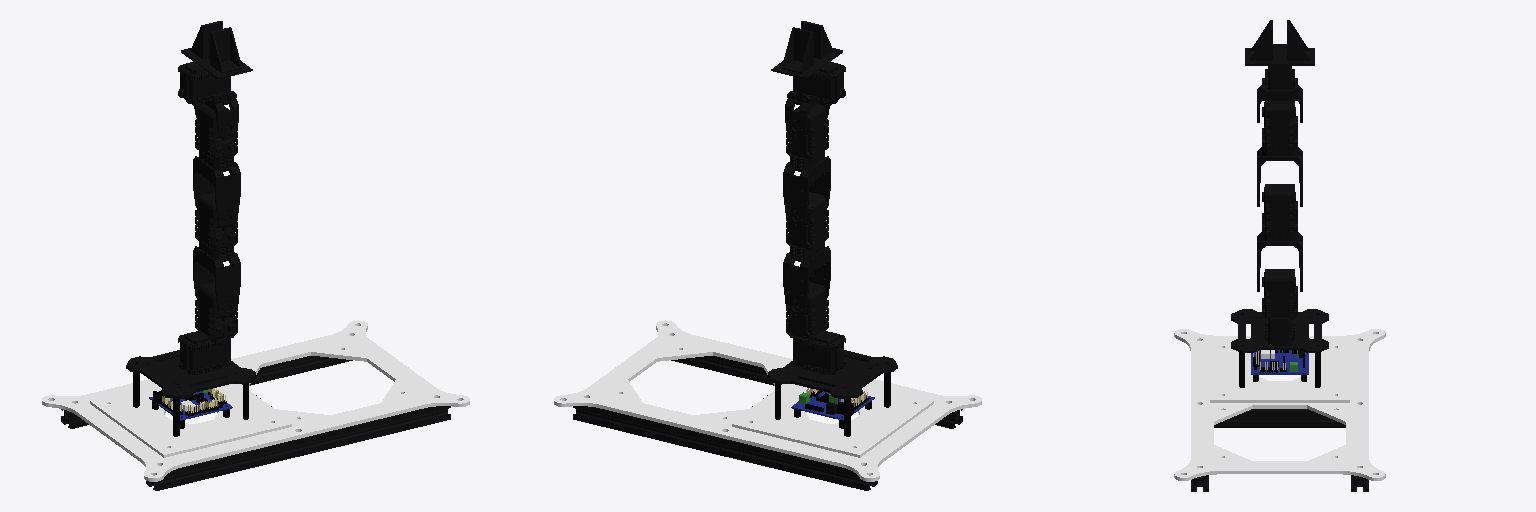
--- Render facts (derived) ---
The picture shows the robot from 3 angles, left to right: view 1: azimuth 30°, elevation 25°; view 2: azimuth 150°, elevation 25°; view 3: azimuth 270°, elevation 25°; orthographic projection.
Model phantomx_pincher with 28 links and 27 joints (4 revolute, 2 prismatic, 21 fixed), rooted at phantomx_pincher_base_link, posed all joints at 0 but 2 set to mid-range because 0 is outside their limits (phantomx_pincher_gripper_finger1_joint = 0.0084, phantomx_pincher_gripper_finger2_joint = 0.0084).
Visible links, largest first — view 1: phantomx_pincher_task_board_link, phantomx_pincher_task_board_mount_link, phantomx_pincher_base_mount_link, phantomx_pincher_arm_elbow_flex_link, phantomx_pincher_arm_shoulder_lift_link, phantomx_pincher_arm_shoulder_pan_servo_link, phantomx_pincher_gripper_servo_link, phantomx_pincher_arm_shoulder_lift_servo_link, phantomx_pincher_arm_elbow_flex_servo_link, phantomx_pincher_arm_wrist_flex_servo_link, phantomx_pincher_gripper_finger2_link, phantomx_pincher_arm_wrist_flex_link (+2 smaller); view 2: phantomx_pincher_task_board_link, phantomx_pincher_task_board_mount_link, phantomx_pincher_base_mount_link, phantomx_pincher_arm_elbow_flex_link, phantomx_pincher_arm_shoulder_lift_link, phantomx_pincher_arm_shoulder_pan_servo_link, phantomx_pincher_gripper_servo_link, phantomx_pincher_arm_shoulder_lift_servo_link, phantomx_pincher_arm_elbow_flex_servo_link, phantomx_pincher_arm_wrist_flex_servo_link, phantomx_pincher_gripper_finger1_link, phantomx_pincher_arm_wrist_flex_link (+2 smaller); view 3: phantomx_pincher_task_board_link, phantomx_pincher_task_board_mount_link, phantomx_pincher_base_mount_link, phantomx_pincher_arm_shoulder_lift_servo_link, phantomx_pincher_arm_elbow_flex_servo_link, phantomx_pincher_arm_wrist_flex_servo_link, phantomx_pincher_arm_shoulder_pan_servo_link, phantomx_pincher_gripper_servo_link, phantomx_pincher_gripper_finger_base_link, phantomx_pincher_arm_elbow_flex_link, phantomx_pincher_arm_shoulder_lift_link, phantomx_pincher_gripper_finger1_link (+1 smaller).
Boxes of the visible links, box(x1,y1,x2,y2) form: phantomx_pincher_task_board_link: box(42, 320, 469, 490); phantomx_pincher_task_board_mount_link: box(90, 384, 291, 457); phantomx_pincher_base_mount_link: box(126, 350, 255, 436); phantomx_pincher_arm_elbow_flex_link: box(193, 156, 240, 227); phantomx_pincher_arm_shoulder_lift_link: box(193, 246, 240, 317); phantomx_pincher_arm_shoulder_pan_servo_link: box(178, 330, 230, 374); phantomx_pincher_gripper_servo_link: box(178, 62, 230, 105); phantomx_pincher_arm_shoulder_lift_servo_link: box(195, 282, 237, 341); phantomx_pincher_arm_elbow_flex_servo_link: box(195, 192, 237, 250); phantomx_pincher_arm_wrist_flex_servo_link: box(195, 104, 237, 160); phantomx_pincher_gripper_finger2_link: box(210, 27, 241, 73); phantomx_pincher_arm_wrist_flex_link: box(194, 99, 238, 137); phantomx_pincher_task_board_link: box(554, 320, 981, 490); phantomx_pincher_task_board_mount_link: box(732, 384, 933, 457); phantomx_pincher_base_mount_link: box(768, 350, 897, 436); phantomx_pincher_arm_elbow_flex_link: box(783, 156, 830, 227); phantomx_pincher_arm_shoulder_lift_link: box(783, 246, 830, 317); phantomx_pincher_arm_shoulder_pan_servo_link: box(793, 330, 845, 374); phantomx_pincher_gripper_servo_link: box(793, 62, 845, 105); phantomx_pincher_arm_shoulder_lift_servo_link: box(786, 282, 828, 341); phantomx_pincher_arm_elbow_flex_servo_link: box(786, 192, 828, 250); phantomx_pincher_arm_wrist_flex_servo_link: box(786, 104, 828, 160); phantomx_pincher_gripper_finger1_link: box(782, 27, 813, 73); phantomx_pincher_arm_wrist_flex_link: box(785, 99, 829, 137); phantomx_pincher_task_board_link: box(1174, 329, 1385, 491); phantomx_pincher_task_board_mount_link: box(1210, 342, 1349, 402); phantomx_pincher_base_mount_link: box(1231, 309, 1328, 387); phantomx_pincher_arm_shoulder_lift_servo_link: box(1262, 269, 1297, 318); phantomx_pincher_arm_elbow_flex_servo_link: box(1262, 184, 1297, 233); phantomx_pincher_arm_wrist_flex_servo_link: box(1262, 101, 1297, 148); phantomx_pincher_arm_shoulder_pan_servo_link: box(1265, 317, 1294, 345); phantomx_pincher_gripper_servo_link: box(1265, 44, 1294, 89); phantomx_pincher_gripper_finger_base_link: box(1245, 48, 1314, 65); phantomx_pincher_arm_elbow_flex_link: box(1257, 147, 1302, 206); phantomx_pincher_arm_shoulder_lift_link: box(1257, 232, 1302, 291); phantomx_pincher_gripper_finger1_link: box(1287, 20, 1309, 60).
Size in the robot's own frame: 0.3741 by 0.2241 by 0.4461 metres.
24 mesh visuals loaded from 10 distinct referenced files (10 Collada DAE).

robot.urdf — phantomx_pincher:
<?xml version="1.0" ?>
<!-- =================================================================================== -->
<!-- |    This document was autogenerated by xacro from /root/ws/src/phantomx_pincher/phantomx_pincher_description/urdf/phantomx_pincher.urdf.xacro | -->
<!-- |    EDITING THIS FILE BY HAND IS NOT RECOMMENDED                                 | -->
<!-- =================================================================================== -->
<!-- URDF for PhantomX Pincher Robot Arm -->
<robot name="phantomx_pincher">
  <link name="phantomx_pincher_base_link">
  </link>
  <joint name="phantomx_pincher_base_link_joint" type="fixed">
    <parent link="phantomx_pincher_base_link"/>
    <child link="phantomx_pincher_task_board_link"/>
  </joint>
  <joint name="phantomx_pincher_task_board_fixed_joint" type="fixed">
    <parent link="phantomx_pincher_task_board_link"/>
    <child link="phantomx_pincher_task_board_mount_link"/>
    <origin rpy="0.0 0.0 1.5707963267948966" xyz="-0.075 0.0 0.024"/>
  </joint>
  <link name="phantomx_pincher_task_board_link">
    <visual>
      <origin rpy="0.0 0.0 0.0" xyz="0.0 0.0 0.0"/>
      <geometry>
        <mesh filename="package://phantomx_pincher_description/meshes/visual/task_board.dae"/>
      </geometry>
    </visual>
    <collision>
      <origin rpy="0.0 0.0 0.0" xyz="0.0 0.0 0.0"/>
      <geometry>
        <mesh filename="package://phantomx_pincher_description/meshes/collision/task_board.stl"/>
      </geometry>
    </collision>
    <inertial>
      <origin rpy="0.0 0.0 0.0" xyz="7.59924e-07 2.79305e-08 0.0164041"/>
      <mass value="0.6"/>
      <inertia ixx="0.0065283400178141335" ixy="-1.7343908287424124e-12" ixz="2.8936318115622572e-09" iyy="0.003398671922618594" iyz="-8.805547978958671e-11" izz="0.009860990026576852"/>
    </inertial>
  </link>
  <gazebo reference="phantomx_pincher_task_board_link">
    <mu1 value="1.0"/>
    <mu2 value="1.0"/>
  </gazebo>
  <link name="phantomx_pincher_task_board_module_link">
  </link>
  <joint name="phantomx_pincher_task_board_module_link_virtual_joint" type="fixed">
    <parent link="phantomx_pincher_task_board_link"/>
    <child link="phantomx_pincher_task_board_module_link"/>
    <origin rpy="0.0 0.0 0.0" xyz="0.075 0.0 0.024"/>
  </joint>
  <joint name="phantomx_pincher_task_board_mount_fixed_joint" type="fixed">
    <parent link="phantomx_pincher_task_board_mount_link"/>
    <child link="phantomx_pincher_base_mount_link"/>
    <origin rpy="0.0 0.0 0.0" xyz="0.0 0.0 0.003"/>
  </joint>
  <link name="phantomx_pincher_task_board_mount_link">
    <visual>
      <origin rpy="0.0 0.0 0.0" xyz="0.0 0.0 0.0"/>
      <geometry>
        <mesh filename="package://phantomx_pincher_description/meshes/visual/task_board_module_phantomx_pincher_mount.dae"/>
      </geometry>
    </visual>
    <collision>
      <origin rpy="0.0 0.0 0.0" xyz="0.0 0.0 0.0015"/>
      <geometry>
        <box size="0.148 0.148 0.003"/>
      </geometry>
    </collision>
    <inertial>
      <origin rpy="0.0 0.0 0.0" xyz="-4.50216e-09 -4.41466e-09 0.00149998"/>
      <mass value="0.05832672118651948"/>
      <inertia ixx="0.0001172231384236186" ixy="5.27948376375961e-14" ixz="3.9903733813665316e-22" iyy="0.00011722313733495664" iyz="2.1401492655855885e-23" izz="0.00023435878795674127"/>
    </inertial>
  </link>
  <gazebo reference="phantomx_pincher_task_board_mount_link">
    <mu1 value="1.0"/>
    <mu2 value="1.0"/>
  </gazebo>
  <joint name="phantomx_pincher_base_mount_fixed_joint" type="fixed">
    <parent link="phantomx_pincher_base_mount_link"/>
    <child link="phantomx_pincher_arm_base_link"/>
    <origin rpy="0.0 0.0 -1.5707963267948966" xyz="0.0 -0.0295 0.064"/>
  </joint>
  <link name="phantomx_pincher_base_mount_link">
    <visual>
      <origin rpy="0.0 0.0 0.0" xyz="0.0 0.0 0.0"/>
      <geometry>
        <mesh filename="package://phantomx_pincher_description/meshes/visual/phantomx_pincher_mount.dae"/>
      </geometry>
    </visual>
    <collision>
      <origin rpy="0.0 0.0 0.0" xyz="0.0 0.0 0.024"/>
      <geometry>
        <box size="0.104 0.104 0.048"/>
      </geometry>
    </collision>
    <inertial>
      <origin rpy="0.0 0.0 0.0" xyz="0.00037683 0.000627242 0.034281"/>
      <mass value="0.04167327881348052"/>
      <inertia ixx="4.209466937688695e-05" ixy="-3.983275834765508e-07" ixz="1.3653283599512486e-07" iyy="4.06306356962411e-05" iyz="5.014723052473674e-07" izz="6.067656565666726e-05"/>
    </inertial>
  </link>
  <gazebo reference="phantomx_pincher_base_mount_link">
    <mu1 value="1.0"/>
    <mu2 value="1.0"/>
  </gazebo>
  <!-- Base link of the arm, which can be used to attach it to the rest of the world -->
  <link name="phantomx_pincher_arm_base_link"/>
  <joint name="phantomx_pincher_arm_shoulder_pan_servo_joint" type="fixed">
    <parent link="phantomx_pincher_arm_base_link"/>
    <child link="phantomx_pincher_arm_shoulder_pan_servo_link"/>
    <origin rpy="1.5707963267948966 0.0 1.5707963267948966" xyz="0.0 0.0 0.0"/>
  </joint>
  <link name="phantomx_pincher_arm_shoulder_pan_servo_link">
    <visual>
      <origin rpy="0.0 0.0 0.0" xyz="0.0 0.0 0.0"/>
      <geometry>
        <mesh filename="package://phantomx_pincher_description/meshes/visual/ax12.dae"/>
      </geometry>
    </visual>
    <collision>
      <origin rpy="0.0 0.0 0.0" xyz="0.0 0.0 -0.0135"/>
      <geometry>
        <box size="0.032 0.038 0.05"/>
      </geometry>
    </collision>
    <inertial>
      <origin rpy="0.0 0.0 0.0" xyz="-7.38454e-07 0.000422614 -0.0130296"/>
      <mass value="0.08139802400654242"/>
      <inertia ixx="2.3143627968295997e-05" ixy="-6.904875516785507e-10" ixz="-2.4208698077741694e-10" iyy="1.9936031209683584e-05" iyz="3.504110421945422e-07" izz="1.2576986445925398e-05"/>
    </inertial>
  </link>
  <gazebo reference="phantomx_pincher_arm_shoulder_pan_servo_link">
    <mu1 value="1.0"/>
    <mu2 value="1.0"/>
  </gazebo>
  <joint name="phantomx_pincher_arm_shoulder_pan_joint" type="revolute">
    <parent link="phantomx_pincher_arm_shoulder_pan_servo_link"/>
    <child link="phantomx_pincher_arm_shoulder_pan_link"/>
    <origin rpy="-1.5707963267948966 1.5707963267948966 3.141592653589793" xyz="0 0.019 0.0"/>
    <axis xyz="0.0 0.0 -1.0"/>
    <limit effort="30" lower="-2.6179938779914944" upper="2.6179938779914944" velocity="1.5707963267948966"/>
    <dynamics damping="1.4" friction="0.02"/>
  </joint>
  <gazebo reference="phantomx_pincher_arm_shoulder_pan_joint">
    <springStiffness value="0.0"/>
    <springReference value="0.0"/>
  </gazebo>
  <link name="phantomx_pincher_arm_shoulder_pan_link">
    <visual>
      <origin rpy="0.0 0.0 0.0" xyz="0.0 0.0 0.0"/>
      <geometry>
        <mesh filename="package://phantomx_pincher_description/meshes/visual/f3.dae"/>
      </geometry>
    </visual>
    <collision>
      <origin rpy="0.0 0.0 0.0" xyz="0.0 0.0 -0.0045"/>
      <geometry>
        <box size="0.025 0.038 0.009"/>
      </geometry>
    </collision>
    <inertial>
      <origin rpy="0.0 0.0 0.0" xyz="-1.72524e-06 4.83783e-07 -0.00240396"/>
      <mass value="0.006374458272892439"/>
      <inertia ixx="9.270000220058128e-07" ixy="-2.5814168895313843e-12" ixz="-2.4985237649917935e-10" iyy="4.018633414376187e-07" iyz="9.813034257837808e-12" izz="1.2864371800536346e-06"/>
    </inertial>
  </link>
  <gazebo reference="phantomx_pincher_arm_shoulder_pan_link">
    <mu1 value="1.0"/>
    <mu2 value="1.0"/>
  </gazebo>
  <joint name="phantomx_pincher_arm_shoulder_lift_servo_joint" type="fixed">
    <parent link="phantomx_pincher_arm_shoulder_pan_link"/>
    <child link="phantomx_pincher_arm_shoulder_lift_servo_link"/>
    <origin rpy="0.0 3.141592653589793 0.0" xyz="0.0 0.0 -0.035"/>
  </joint>
  <link name="phantomx_pincher_arm_shoulder_lift_servo_link">
    <visual>
      <origin rpy="0.0 0.0 0.0" xyz="0.0 0.0 0.0"/>
      <geometry>
        <mesh filename="package://phantomx_pincher_description/meshes/visual/ax12.dae"/>
      </geometry>
    </visual>
    <collision>
      <origin rpy="0.0 0.0 0.0" xyz="0.0 0.0 -0.0135"/>
      <geometry>
        <box size="0.032 0.038 0.05"/>
      </geometry>
    </collision>
    <inertial>
      <origin rpy="0.0 0.0 0.0" xyz="-7.38454e-07 0.000422614 -0.0130296"/>
      <mass value="0.08139802400654242"/>
      <inertia ixx="2.3143627968295997e-05" ixy="-6.904875516785507e-10" ixz="-2.4208698077741694e-10" iyy="1.9936031209683584e-05" iyz="3.504110421945422e-07" izz="1.2576986445925398e-05"/>
    </inertial>
  </link>
  <gazebo reference="phantomx_pincher_arm_shoulder_lift_servo_link">
    <mu1 value="1.0"/>
    <mu2 value="1.0"/>
  </gazebo>
  <joint name="phantomx_pincher_arm_shoulder_lift_joint" type="revolute">
    <parent link="phantomx_pincher_arm_shoulder_lift_servo_link"/>
    <child link="phantomx_pincher_arm_shoulder_lift_link"/>
    <origin rpy="0.0 0.0 0.0" xyz="0.0 0.0 0.0"/>
    <axis xyz="0.0 1.0 0.0"/>
    <limit effort="30" lower="-2.0943951023931953" upper="2.0943951023931953" velocity="1.5707963267948966"/>
    <dynamics damping="1.4" friction="0.02"/>
  </joint>
  <gazebo reference="phantomx_pincher_arm_shoulder_lift_joint">
    <springStiffness value="0.0"/>
    <springReference value="0.0"/>
  </gazebo>
  <link name="phantomx_pincher_arm_shoulder_lift_link">
    <visual>
      <origin rpy="0.0 0.0 0.0" xyz="0.0 0.0 0.0"/>
      <geometry>
        <mesh filename="package://phantomx_pincher_description/meshes/visual/f4.dae"/>
      </geometry>
    </visual>
    <collision>
      <origin rpy="0.0 0.0 0.0" xyz="0.0 0.0 0.0215"/>
      <geometry>
        <box size="0.028 0.0485 0.065"/>
      </geometry>
    </collision>
    <inertial>
      <origin rpy="0.0 0.0 0.0" xyz="-0.000589318 3.65417e-05 0.0288737"/>
      <mass value="0.025203193826508614"/>
      <inertia ixx="1.997638801949545e-05" ixy="9.66261623973993e-10" ixz="1.0343105915459652e-06" iyy="1.214970461462084e-05" iyz="-1.7113644679963033e-08" izz="1.1427207264696245e-05"/>
    </inertial>
  </link>
  <gazebo reference="phantomx_pincher_arm_shoulder_lift_link">
    <mu1 value="1.0"/>
    <mu2 value="1.0"/>
  </gazebo>
  <joint name="phantomx_pincher_arm_shoulder_F10_0_joint" type="fixed">
    <parent link="phantomx_pincher_arm_shoulder_lift_link"/>
    <child link="phantomx_pincher_arm_shoulder_F10_0_link"/>
    <origin rpy="0.0 0.0 0.0" xyz="0.0 0.0 0.0545"/>
  </joint>
  <link name="phantomx_pincher_arm_shoulder_F10_0_link">
    <visual>
      <origin rpy="0.0 0.0 0.0" xyz="0.0 0.0 0.0"/>
      <geometry>
        <mesh filename="package://phantomx_pincher_description/meshes/visual/f10.dae"/>
      </geometry>
    </visual>
    <collision>
      <origin rpy="0.0 0.0 0.0" xyz="0.0 0.0 0.0"/>
      <geometry>
        <box size="0.025 0.038 0.004"/>
      </geometry>
    </collision>
    <inertial>
      <origin rpy="0.0 0.0 0.0" xyz="-8.67784e-06 -8.79317e-07 0.000171599"/>
      <mass value="0.0035170756160130324"/>
      <inertia ixx="3.992017647723594e-07" ixy="-3.5246444817584626e-12" ixz="-9.729500575523489e-13" iyy="2.2036114209006905e-07" iyz="2.2872438374335695e-12" izz="6.123206341186544e-07"/>
    </inertial>
  </link>
  <gazebo reference="phantomx_pincher_arm_shoulder_F10_0_link">
    <mu1 value="1.0"/>
    <mu2 value="1.0"/>
  </gazebo>
  <joint name="phantomx_pincher_arm_shoulder_F10_1_joint" type="fixed">
    <parent link="phantomx_pincher_arm_shoulder_F10_0_link"/>
    <child link="phantomx_pincher_arm_shoulder_F10_1_link"/>
    <origin rpy="0.0 0.0 0.0" xyz="0.0 0.0 0.004"/>
  </joint>
  <link name="phantomx_pincher_arm_shoulder_F10_1_link">
    <visual>
      <origin rpy="0.0 0.0 0.0" xyz="0.0 0.0 0.0"/>
      <geometry>
        <mesh filename="package://phantomx_pincher_description/meshes/visual/f10.dae"/>
      </geometry>
    </visual>
    <collision>
      <origin rpy="0.0 0.0 0.0" xyz="0.0 0.0 0.0"/>
      <geometry>
        <box size="0.025 0.038 0.004"/>
      </geometry>
    </collision>
    <inertial>
      <origin rpy="0.0 0.0 0.0" xyz="-8.67784e-06 -8.79317e-07 0.000171599"/>
      <mass value="0.0035170756160130324"/>
      <inertia ixx="3.992017647723594e-07" ixy="-3.5246444817584626e-12" ixz="-9.729500575523489e-13" iyy="2.2036114209006905e-07" iyz="2.2872438374335695e-12" izz="6.123206341186544e-07"/>
    </inertial>
  </link>
  <gazebo reference="phantomx_pincher_arm_shoulder_F10_1_link">
    <mu1 value="1.0"/>
    <mu2 value="1.0"/>
  </gazebo>
  <joint name="phantomx_pincher_arm_shoulder_F10_2_joint" type="fixed">
    <parent link="phantomx_pincher_arm_shoulder_F10_1_link"/>
    <child link="phantomx_pincher_arm_shoulder_F10_2_link"/>
    <origin rpy="0.0 0.0 0.0" xyz="0.0 0.0 0.004"/>
  </joint>
  <link name="phantomx_pincher_arm_shoulder_F10_2_link">
    <visual>
      <origin rpy="0.0 0.0 0.0" xyz="0.0 0.0 0.0"/>
      <geometry>
        <mesh filename="package://phantomx_pincher_description/meshes/visual/f10.dae"/>
      </geometry>
    </visual>
    <collision>
      <origin rpy="0.0 0.0 0.0" xyz="0.0 0.0 0.0"/>
      <geometry>
        <box size="0.025 0.038 0.004"/>
      </geometry>
    </collision>
    <inertial>
      <origin rpy="0.0 0.0 0.0" xyz="-8.67784e-06 -8.79317e-07 0.000171599"/>
      <mass value="0.0035170756160130324"/>
      <inertia ixx="3.992017647723594e-07" ixy="-3.5246444817584626e-12" ixz="-9.729500575523489e-13" iyy="2.2036114209006905e-07" iyz="2.2872438374335695e-12" izz="6.123206341186544e-07"/>
    </inertial>
  </link>
  <gazebo reference="phantomx_pincher_arm_shoulder_F10_2_link">
    <mu1 value="1.0"/>
    <mu2 value="1.0"/>
  </gazebo>
  <joint name="phantomx_pincher_arm_shoulder_F3_0_joint" type="fixed">
    <parent link="phantomx_pincher_arm_shoulder_F10_2_link"/>
    <child link="phantomx_pincher_arm_shoulder_F3_0_link"/>
    <origin rpy="0.0 3.141592653589793 0.0" xyz="0.0 0.0 0.002"/>
  </joint>
  <link name="phantomx_pincher_arm_shoulder_F3_0_link">
    <visual>
      <origin rpy="0.0 0.0 0.0" xyz="0.0 0.0 0.0"/>
      <geometry>
        <mesh filename="package://phantomx_pincher_description/meshes/visual/f3.dae"/>
      </geometry>
    </visual>
    <collision>
      <origin rpy="0.0 0.0 0.0" xyz="0.0 0.0 -0.0045"/>
      <geometry>
        <box size="0.025 0.038 0.009"/>
      </geometry>
    </collision>
    <inertial>
      <origin rpy="0.0 0.0 0.0" xyz="-1.72524e-06 4.83783e-07 -0.00240396"/>
      <mass value="0.006374458272892439"/>
      <inertia ixx="9.270000220058128e-07" ixy="-2.5814168895313843e-12" ixz="-2.4985237649917935e-10" iyy="4.018633414376187e-07" iyz="9.813034257837808e-12" izz="1.2864371800536346e-06"/>
    </inertial>
  </link>
  <gazebo reference="phantomx_pincher_arm_shoulder_F3_0_link">
    <mu1 value="1.0"/>
    <mu2 value="1.0"/>
  </gazebo>
  <joint name="phantomx_pincher_arm_elbow_flex_servo_joint" type="fixed">
    <parent link="phantomx_pincher_arm_shoulder_F3_0_link"/>
    <child link="phantomx_pincher_arm_elbow_flex_servo_link"/>
    <origin rpy="0.0 3.141592653589793 0.0" xyz="0.0 0.0 -0.035"/>
  </joint>
  <link name="phantomx_pincher_arm_elbow_flex_servo_link">
    <visual>
      <origin rpy="0.0 0.0 0.0" xyz="0.0 0.0 0.0"/>
      <geometry>
        <mesh filename="package://phantomx_pincher_description/meshes/visual/ax12.dae"/>
      </geometry>
    </visual>
    <collision>
      <origin rpy="0.0 0.0 0.0" xyz="0.0 0.0 -0.0135"/>
      <geometry>
        <box size="0.032 0.038 0.05"/>
      </geometry>
    </collision>
    <inertial>
      <origin rpy="0.0 0.0 0.0" xyz="-7.38454e-07 0.000422614 -0.0130296"/>
      <mass value="0.08139802400654242"/>
      <inertia ixx="2.3143627968295997e-05" ixy="-6.904875516785507e-10" ixz="-2.4208698077741694e-10" iyy="1.9936031209683584e-05" iyz="3.504110421945422e-07" izz="1.2576986445925398e-05"/>
    </inertial>
  </link>
  <gazebo reference="phantomx_pincher_arm_elbow_flex_servo_link">
    <mu1 value="1.0"/>
    <mu2 value="1.0"/>
  </gazebo>
  <joint name="phantomx_pincher_arm_elbow_flex_joint" type="revolute">
    <parent link="phantomx_pincher_arm_elbow_flex_servo_link"/>
    <child link="phantomx_pincher_arm_elbow_flex_link"/>
    <origin rpy="0.0 0.0 0.0" xyz="0.0 0.0 0.0"/>
    <axis xyz="0.0 1.0 0.0"/>
    <limit effort="30" lower="-2.426007660272118" upper="2.426007660272118" velocity="1.5707963267948966"/>
    <dynamics damping="1.4" friction="0.02"/>
  </joint>
  <gazebo reference="phantomx_pincher_arm_elbow_flex_joint">
    <springStiffness value="0.0"/>
    <springReference value="0.0"/>
  </gazebo>
  <link name="phantomx_pincher_arm_elbow_flex_link">
    <visual>
      <origin rpy="0.0 0.0 0.0" xyz="0.0 0.0 0.0"/>
      <geometry>
        <mesh filename="package://phantomx_pincher_description/meshes/visual/f4.dae"/>
      </geometry>
    </visual>
    <collision>
      <origin rpy="0.0 0.0 0.0" xyz="0.0 0.0 0.0215"/>
      <geometry>
        <box size="0.028 0.0485 0.065"/>
      </geometry>
    </collision>
    <inertial>
      <origin rpy="0.0 0.0 0.0" xyz="-0.000589318 3.65417e-05 0.0288737"/>
      <mass value="0.025203193826508614"/>
      <inertia ixx="1.997638801949545e-05" ixy="9.66261623973993e-10" ixz="1.0343105915459652e-06" iyy="1.214970461462084e-05" iyz="-1.7113644679963033e-08" izz="1.1427207264696245e-05"/>
    </inertial>
  </link>
  <gazebo reference="phantomx_pincher_arm_elbow_flex_link">
    <mu1 value="1.0"/>
    <mu2 value="1.0"/>
  </gazebo>
  <joint name="phantomx_pincher_arm_elbow_F10_0_joint" type="fixed">
    <parent link="phantomx_pincher_arm_elbow_flex_link"/>
    <child link="phantomx_pincher_arm_elbow_F10_0_link"/>
    <origin rpy="0.0 0.0 0.0" xyz="0.0 0.0 0.0545"/>
  </joint>
  <link name="phantomx_pincher_arm_elbow_F10_0_link">
    <visual>
      <origin rpy="0.0 0.0 0.0" xyz="0.0 0.0 0.0"/>
      <geometry>
        <mesh filename="package://phantomx_pincher_description/meshes/visual/f10.dae"/>
      </geometry>
    </visual>
    <collision>
      <origin rpy="0.0 0.0 0.0" xyz="0.0 0.0 0.0"/>
      <geometry>
        <box size="0.025 0.038 0.004"/>
      </geometry>
    </collision>
    <inertial>
      <origin rpy="0.0 0.0 0.0" xyz="-8.67784e-06 -8.79317e-07 0.000171599"/>
      <mass value="0.0035170756160130324"/>
      <inertia ixx="3.992017647723594e-07" ixy="-3.5246444817584626e-12" ixz="-9.729500575523489e-13" iyy="2.2036114209006905e-07" iyz="2.2872438374335695e-12" izz="6.123206341186544e-07"/>
    </inertial>
  </link>
  <gazebo reference="phantomx_pincher_arm_elbow_F10_0_link">
    <mu1 value="1.0"/>
    <mu2 value="1.0"/>
  </gazebo>
  <joint name="phantomx_pincher_arm_elbow_F10_1_joint" type="fixed">
    <parent link="phantomx_pincher_arm_elbow_F10_0_link"/>
    <child link="phantomx_pincher_arm_elbow_F10_1_link"/>
    <origin rpy="0.0 0.0 0.0" xyz="0.0 0.0 0.004"/>
  </joint>
  <link name="phantomx_pincher_arm_elbow_F10_1_link">
    <visual>
      <origin rpy="0.0 0.0 0.0" xyz="0.0 0.0 0.0"/>
      <geometry>
        <mesh filename="package://phantomx_pincher_description/meshes/visual/f10.dae"/>
      </geometry>
    </visual>
    <collision>
      <origin rpy="0.0 0.0 0.0" xyz="0.0 0.0 0.0"/>
      <geometry>
        <box size="0.025 0.038 0.004"/>
      </geometry>
    </collision>
    <inertial>
      <origin rpy="0.0 0.0 0.0" xyz="-8.67784e-06 -8.79317e-07 0.000171599"/>
      <mass value="0.0035170756160130324"/>
      <inertia ixx="3.992017647723594e-07" ixy="-3.5246444817584626e-12" ixz="-9.729500575523489e-13" iyy="2.2036114209006905e-07" iyz="2.2872438374335695e-12" izz="6.123206341186544e-07"/>
    </inertial>
  </link>
  <gazebo reference="phantomx_pincher_arm_elbow_F10_1_link">
    <mu1 value="1.0"/>
    <mu2 value="1.0"/>
  </gazebo>
  <joint name="phantomx_pincher_arm_elbow_F10_2_joint" type="fixed">
    <parent link="phantomx_pincher_arm_elbow_F10_1_link"/>
    <child link="phantomx_pincher_arm_elbow_F10_2_link"/>
    <origin rpy="0.0 0.0 0.0" xyz="0.0 0.0 0.004"/>
  </joint>
  <link name="phantomx_pincher_arm_elbow_F10_2_link">
    <visual>
      <origin rpy="0.0 0.0 0.0" xyz="0.0 0.0 0.0"/>
      <geometry>
        <mesh filename="package://phantomx_pincher_description/meshes/visual/f10.dae"/>
      </geometry>
    </visual>
    <collision>
      <origin rpy="0.0 0.0 0.0" xyz="0.0 0.0 0.0"/>
      <geometry>
        <box size="0.025 0.038 0.004"/>
      </geometry>
    </collision>
    <inertial>
      <origin rpy="0.0 0.0 0.0" xyz="-8.67784e-06 -8.79317e-07 0.000171599"/>
      <mass value="0.0035170756160130324"/>
      <inertia ixx="3.992017647723594e-07" ixy="-3.5246444817584626e-12" ixz="-9.729500575523489e-13" iyy="2.2036114209006905e-07" iyz="2.2872438374335695e-12" izz="6.123206341186544e-07"/>
    </inertial>
  </link>
  <gazebo reference="phantomx_pincher_arm_elbow_F10_2_link">
    <mu1 value="1.0"/>
    <mu2 value="1.0"/>
  </gazebo>
  <joint name="phantomx_pincher_arm_elbow_F3_0_joint" type="fixed">
    <parent link="phantomx_pincher_arm_elbow_F10_2_link"/>
    <child link="phantomx_pincher_arm_elbow_F3_0_link"/>
    <origin rpy="0.0 3.141592653589793 0.0" xyz="0.0 0.0 0.002"/>
  </joint>
  <link name="phantomx_pincher_arm_elbow_F3_0_link">
    <visual>
      <origin rpy="0.0 0.0 0.0" xyz="0.0 0.0 0.0"/>
      <geometry>
        <mesh filename="package://phantomx_pincher_description/meshes/visual/f3.dae"/>
      </geometry>
    </visual>
    <collision>
      <origin rpy="0.0 0.0 0.0" xyz="0.0 0.0 -0.0045"/>
      <geometry>
        <box size="0.025 0.038 0.009"/>
      </geometry>
    </collision>
    <inertial>
      <origin rpy="0.0 0.0 0.0" xyz="-1.72524e-06 4.83783e-07 -0.00240396"/>
      <mass value="0.006374458272892439"/>
      <inertia ixx="9.270000220058128e-07" ixy="-2.5814168895313843e-12" ixz="-2.4985237649917935e-10" iyy="4.018633414376187e-07" iyz="9.813034257837808e-12" izz="1.2864371800536346e-06"/>
    </inertial>
  </link>
  <gazebo reference="phantomx_pincher_arm_elbow_F3_0_link">
    <mu1 value="1.0"/>
    <mu2 value="1.0"/>
  </gazebo>
  <joint name="phantomx_pincher_arm_wrist_flex_servo_joint" type="fixed">
    <parent link="phantomx_pincher_arm_elbow_F3_0_link"/>
    <child link="phantomx_pincher_arm_wrist_flex_servo_link"/>
    <origin rpy="0.0 3.141592653589793 0.0" xyz="0.0 0.0 -0.035"/>
  </joint>
  <link name="phantomx_pincher_arm_wrist_flex_servo_link">
    <visual>
      <origin rpy="0.0 0.0 0.0" xyz="0.0 0.0 0.0"/>
      <geometry>
        <mesh filename="package://phantomx_pincher_description/meshes/visual/ax12.dae"/>
      </geometry>
    </visual>
    <collision>
      <origin rpy="0.0 0.0 0.0" xyz="0.0 0.0 -0.0135"/>
      <geometry>
        <box size="0.032 0.038 0.05"/>
      </geometry>
    </collision>
    <inertial>
      <origin rpy="0.0 0.0 0.0" xyz="-7.38454e-07 0.000422614 -0.0130296"/>
      <mass value="0.08139802400654242"/>
      <inertia ixx="2.3143627968295997e-05" ixy="-6.904875516785507e-10" ixz="-2.4208698077741694e-10" iyy="1.9936031209683584e-05" iyz="3.504110421945422e-07" izz="1.2576986445925398e-05"/>
    </inertial>
  </link>
  <gazebo reference="phantomx_pincher_arm_wrist_flex_servo_link">
    <mu1 value="1.0"/>
    <mu2 value="1.0"/>
  </gazebo>
  <joint name="phantomx_pincher_arm_wrist_flex_joint" type="revolute">
    <parent link="phantomx_pincher_arm_wrist_flex_servo_link"/>
    <child link="phantomx_pincher_arm_wrist_flex_link"/>
    <origin rpy="0.0 0.0 0.0" xyz="0.0 0.0 0.0"/>
    <axis xyz="0.0 1.0 0.0"/>
    <limit effort="30" lower="-1.710422666954443" upper="1.7976891295541593" velocity="1.5707963267948966"/>
    <dynamics damping="1.4" friction="0.02"/>
  </joint>
  <gazebo reference="phantomx_pincher_arm_wrist_flex_joint">
    <springStiffness value="0.0"/>
    <springReference value="0.0"/>
  </gazebo>
  <link name="phantomx_pincher_arm_wrist_flex_link">
    <visual>
      <origin rpy="0.0 0.0 0.0" xyz="0.0 0.0 0.0"/>
      <geometry>
        <mesh filename="package://phantomx_pincher_description/meshes/visual/f2.dae"/>
      </geometry>
    </visual>
    <collision>
      <origin rpy="0.0 0.0 0.0" xyz="0.0 0.0 0.00775"/>
      <geometry>
        <box size="0.025 0.0485 0.0375"/>
      </geometry>
    </collision>
    <inertial>
      <origin rpy="0.0 0.0 0.0" xyz="1.83625e-06 4.41782e-08 0.0154045"/>
      <mass value="0.014479017200129543"/>
      <inertia ixx="6.472388590001224e-06" ixy="-1.892671596204799e-12" ixz="-3.0007457063740617e-10" iyy="2.498962550910956e-06" iyz="-2.3584142968316667e-12" izz="5.6994603934534456e-06"/>
    </inertial>
  </link>
  <gazebo reference="phantomx_pincher_arm_wrist_flex_link">
    <mu1 value="1.0"/>
    <mu2 value="1.0"/>
  </gazebo>
  <joint name="phantomx_pincher_arm_wrist_F3_0_joint" type="fixed">
    <parent link="phantomx_pincher_arm_wrist_flex_link"/>
    <child link="phantomx_pincher_arm_wrist_F3_0_link"/>
    <origin rpy="0 3.141592653589793 -3.141592653589793" xyz="0.0 0.0 0.0265"/>
  </joint>
  <link name="phantomx_pincher_arm_wrist_F3_0_link">
    <visual>
      <origin rpy="0.0 0.0 0.0" xyz="0.0 0.0 0.0"/>
      <geometry>
        <mesh filename="package://phantomx_pincher_description/meshes/visual/f3.dae"/>
      </geometry>
    </visual>
    <collision>
      <origin rpy="0.0 0.0 0.0" xyz="0.0 0.0 -0.0045"/>
      <geometry>
        <box size="0.025 0.038 0.009"/>
      </geometry>
    </collision>
    <inertial>
      <origin rpy="0.0 0.0 0.0" xyz="-1.72524e-06 4.83783e-07 -0.00240396"/>
      <mass value="0.006374458272892439"/>
      <inertia ixx="9.270000220058128e-07" ixy="-2.5814168895313843e-12" ixz="-2.4985237649917935e-10" iyy="4.018633414376187e-07" iyz="9.813034257837808e-12" izz="1.2864371800536346e-06"/>
    </inertial>
  </link>
  <gazebo reference="phantomx_pincher_arm_wrist_F3_0_link">
    <mu1 value="1.0"/>
    <mu2 value="1.0"/>
  </gazebo>
  <joint name="phantomx_pincher_gripper_servo_joint" type="fixed">
    <parent link="phantomx_pincher_arm_wrist_F3_0_link"/>
    <child link="phantomx_pincher_gripper_servo_link"/>
    <origin rpy="1.5707963267948966 3.141592653589793 1.5707963267948966" xyz="0.0 0.0 -0.019"/>
  </joint>
  <link name="phantomx_pincher_gripper_servo_link">
    <visual>
      <origin rpy="0.0 0.0 0.0" xyz="0.0 0.0 0.0"/>
      <geometry>
        <mesh filename="package://phantomx_pincher_description/meshes/visual/ax12.dae"/>
      </geometry>
    </visual>
    <collision>
      <origin rpy="0.0 0.0 0.0" xyz="0.0 0.0 -0.0135"/>
      <geometry>
        <box size="0.032 0.038 0.05"/>
      </geometry>
    </collision>
    <inertial>
      <origin rpy="0.0 0.0 0.0" xyz="-7.38454e-07 0.000422614 -0.0130296"/>
      <mass value="0.08139802400654242"/>
      <inertia ixx="2.3143627968295997e-05" ixy="-6.904875516785507e-10" ixz="-2.4208698077741694e-10" iyy="1.9936031209683584e-05" iyz="3.504110421945422e-07" izz="1.2576986445925398e-05"/>
    </inertial>
  </link>
  <gazebo reference="phantomx_pincher_gripper_servo_link">
    <mu1 value="1.0"/>
    <mu2 value="1.0"/>
  </gazebo>
  <joint name="phantomx_pincher_gripper_finger_base_joint" type="fixed">
    <parent link="phantomx_pincher_gripper_servo_link"/>
    <child link="phantomx_pincher_gripper_finger_base_link"/>
    <origin rpy="3.141592653589793 0.0 1.5707963267948966" xyz="0 0.019 0.0"/>
  </joint>
  <link name="phantomx_pincher_gripper_finger_base_link">
    <visual>
      <origin rpy="0.0 0.0 0.0" xyz="0.0 0.0 0.0"/>
      <geometry>
        <mesh filename="package://phantomx_pincher_description/meshes/visual/gripper_base.dae"/>
      </geometry>
    </visual>
    <collision>
      <origin rpy="0.0 0.0 0.0" xyz="0.0 0.0 0.0"/>
      <geometry>
        <box size="0.002 0.075 0.040"/>
      </geometry>
    </collision>
    <inertial>
      <origin rpy="0.0 0.0 0.0" xyz="0 2.98023e-08 0"/>
      <mass value="0.011837674839899828"/>
      <inertia ixx="7.127260849628046e-06" ixy="3.400011875409145e-24" ixz="-0.0" iyy="1.5822994239366863e-06" iyz="-0.0" izz="5.5528530038746866e-06"/>
    </inertial>
  </link>
  <gazebo reference="phantomx_pincher_gripper_finger_base_link">
    <mu1 value="1.0"/>
    <mu2 value="1.0"/>
  </gazebo>
  <joint name="phantomx_pincher_gripper_finger1_joint" type="prismatic">
    <parent link="phantomx_pincher_gripper_finger_base_link"/>
    <child link="phantomx_pincher_gripper_finger1_link"/>
    <origin rpy="1.5707963267948966 0.0 1.5707963267948966" xyz="0.019 0.0115 0.0"/>
    <axis xyz="1.0 0.0 0.0"/>
    <limit effort="30" lower="0.001" upper="0.0158" velocity="0.01"/>
    <dynamics damping="1.8" friction="0.06"/>
  </joint>
  <gazebo reference="phantomx_pincher_gripper_finger1_joint">
    <springStiffness value="0.0"/>
    <springReference value="0.0"/>
  </gazebo>
  <link name="phantomx_pincher_gripper_finger1_link">
    <visual>
      <origin rpy="0.0 0.0 0.0" xyz="0.0 0.0 0.0"/>
      <geometry>
        <mesh filename="package://phantomx_pincher_description/meshes/visual/finger.dae"/>
      </geometry>
    </visual>
    <collision>
      <origin rpy="0.0 0.0 0.0" xyz="0.0 0.0 0.0"/>
      <geometry>
        <mesh filename="package://phantomx_pincher_description/meshes/collision/finger.stl"/>
      </geometry>
    </collision>
    <inertial>
      <origin rpy="0.0 0.0 0.0" xyz="-0.00607194 -4.42132e-19 -0.00471261"/>
      <mass value="0.009843256743296712"/>
      <inertia ixx="1.8229100836948666e-06" ixy="-2.797502899373518e-23" ixz="3.498974201392864e-07" iyy="1.595545910676557e-06" iyz="4.770944797128244e-23" izz="1.0262210845211422e-06"/>
    </inertial>
  </link>
  <gazebo reference="phantomx_pincher_gripper_finger1_link">
    <mu1 value="1.0"/>
    <mu2 value="1.0"/>
  </gazebo>
  <joint name="phantomx_pincher_gripper_finger2_joint" type="prismatic">
    <parent link="phantomx_pincher_gripper_finger_base_link"/>
    <child link="phantomx_pincher_gripper_finger2_link"/>
    <origin rpy="1.5707963267948966 3.141592653589793 1.5707963267948966" xyz="0.019 -0.0115 0.0"/>
    <axis xyz="1.0 0.0 0.0"/>
    <limit effort="30" lower="0.001" upper="0.0158" velocity="0.01"/>
    <dynamics damping="1.8" friction="0.06"/>
  </joint>
  <gazebo reference="phantomx_pincher_gripper_finger2_joint">
    <springStiffness value="0.0"/>
    <springReference value="0.0"/>
  </gazebo>
  <link name="phantomx_pincher_gripper_finger2_link">
    <visual>
      <origin rpy="0.0 0.0 0.0" xyz="0.0 0.0 0.0"/>
      <geometry>
        <mesh filename="package://phantomx_pincher_description/meshes/visual/finger.dae"/>
      </geometry>
    </visual>
    <collision>
      <origin rpy="0.0 0.0 0.0" xyz="0.0 0.0 0.0"/>
      <geometry>
        <mesh filename="package://phantomx_pincher_description/meshes/collision/finger.stl"/>
      </geometry>
    </collision>
    <inertial>
      <origin rpy="0.0 0.0 0.0" xyz="-0.00607194 -4.42132e-19 -0.00471261"/>
      <mass value="0.009843256743296712"/>
      <inertia ixx="1.8229100836948666e-06" ixy="-2.797502899373518e-23" ixz="3.498974201392864e-07" iyy="1.595545910676557e-06" iyz="4.770944797128244e-23" izz="1.0262210845211422e-06"/>
    </inertial>
  </link>
  <gazebo reference="phantomx_pincher_gripper_finger2_link">
    <mu1 value="1.0"/>
    <mu2 value="1.0"/>
  </gazebo>
  <link name="phantomx_pincher_end_effector">
  </link>
  <joint name="phantomx_pincher_end_effector_virtual_joint" type="fixed">
    <parent link="phantomx_pincher_gripper_finger_base_link"/>
    <child link="phantomx_pincher_end_effector"/>
    <origin rpy="1.5707963267948966 -1.5707963267948966 1.5707963267948966" xyz="0.019 0.0 0.0"/>
  </joint>
  <transmission name="phantomx_pincher_arm_shoulder_pan_transmission">
    <type>transmission_interface/SimpleTransmission</type>
    <joint name="phantomx_pincher_arm_shoulder_pan_joint">
      <hardwareInterface>hardware_interface/PositionJointInterface</hardwareInterface>
    </joint>
    <actuator name="phantomx_pincher_arm_shoulder_pan_actuator">
      <hardwareInterface>hardware_interface/PositionJointInterface</hardwareInterface>
      <mechanicalReduction>1</mechanicalReduction>
    </actuator>
  </transmission>
  <transmission name="phantomx_pincher_arm_shoulder_lift_transmission">
    <type>transmission_interface/SimpleTransmission</type>
    <joint name="phantomx_pincher_arm_shoulder_lift_joint">
      <hardwareInterface>hardware_interface/PositionJointInterface</hardwareInterface>
    </joint>
    <actuator name="phantomx_pincher_arm_shoulder_lift_actuator">
      <hardwareInterface>hardware_interface/PositionJointInterface</hardwareInterface>
      <mechanicalReduction>1</mechanicalReduction>
    </actuator>
  </transmission>
  <transmission name="phantomx_pincher_arm_elbow_flex_transmission">
    <type>transmission_interface/SimpleTransmission</type>
    <joint name="phantomx_pincher_arm_elbow_flex_joint">
      <hardwareInterface>hardware_interface/PositionJointInterface</hardwareInterface>
    </joint>
    <actuator name="phantomx_pincher_arm_elbow_flex_actuator">
      <hardwareInterface>hardware_interface/PositionJointInterface</hardwareInterface>
      <mechanicalReduction>1</mechanicalReduction>
    </actuator>
  </transmission>
  <transmission name="phantomx_pincher_arm_wrist_flex_transmission">
    <type>transmission_interface/SimpleTransmission</type>
    <joint name="phantomx_pincher_arm_wrist_flex_joint">
      <hardwareInterface>hardware_interface/PositionJointInterface</hardwareInterface>
    </joint>
    <actuator name="phantomx_pincher_arm_wrist_flex_actuator">
      <hardwareInterface>hardware_interface/PositionJointInterface</hardwareInterface>
      <mechanicalReduction>1</mechanicalReduction>
    </actuator>
  </transmission>
  <transmission name="phantomx_pincher_gripper_finger1_transmission">
    <type>transmission_interface/SimpleTransmission</type>
    <joint name="phantomx_pincher_gripper_finger1_joint">
      <hardwareInterface>hardware_interface/PositionJointInterface</hardwareInterface>
    </joint>
    <actuator name="phantomx_pincher_gripper_finger1_actuator">
      <hardwareInterface>hardware_interface/PositionJointInterface</hardwareInterface>
      <mechanicalReduction>1</mechanicalReduction>
    </actuator>
  </transmission>
  <transmission name="phantomx_pincher_gripper_finger2_transmission">
    <type>transmission_interface/SimpleTransmission</type>
    <joint name="phantomx_pincher_gripper_finger2_joint">
      <hardwareInterface>hardware_interface/PositionJointInterface</hardwareInterface>
    </joint>
    <actuator name="phantomx_pincher_gripper_finger2_actuator">
      <hardwareInterface>hardware_interface/PositionJointInterface</hardwareInterface>
      <mechanicalReduction>1</mechanicalReduction>
    </actuator>
  </transmission>
</robot>
